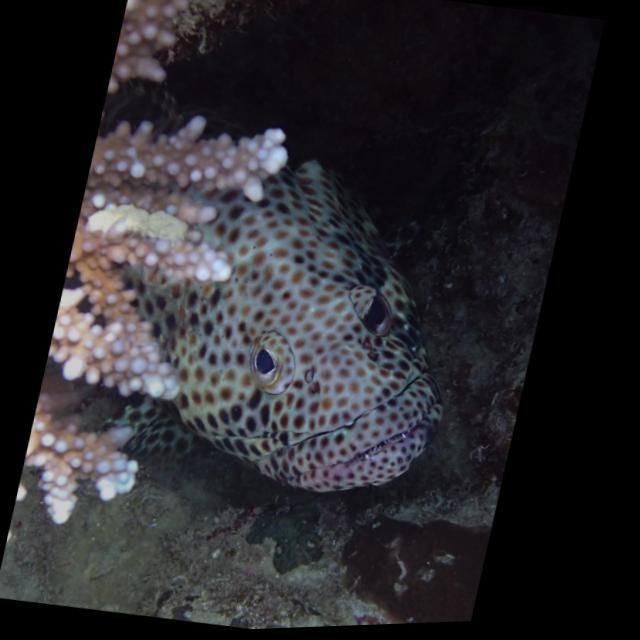Groupers: (21, 56, 517, 517)
